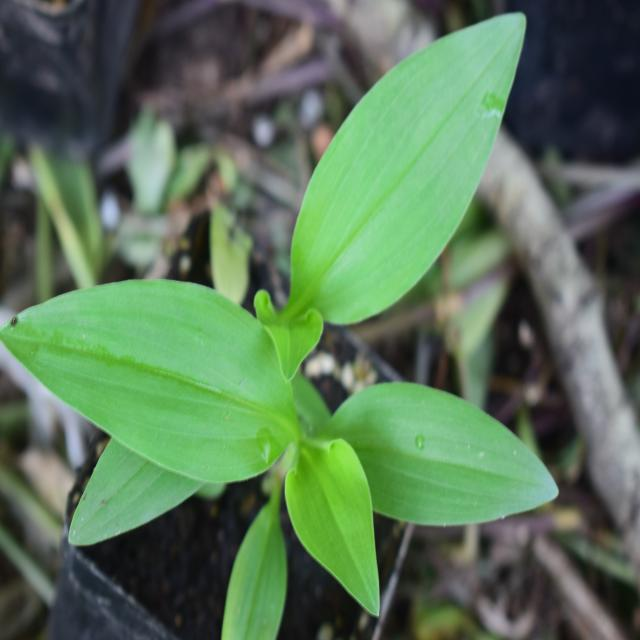Common Dayflower: (0, 243, 550, 595)
